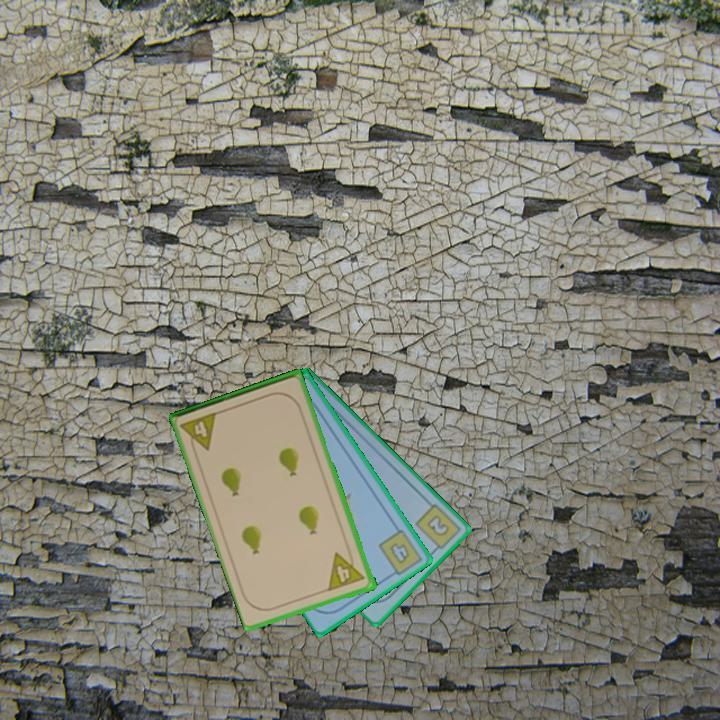2b: (412, 500, 463, 557)
4b: (375, 526, 423, 580)
4p: (325, 546, 369, 594), (177, 409, 220, 458)
